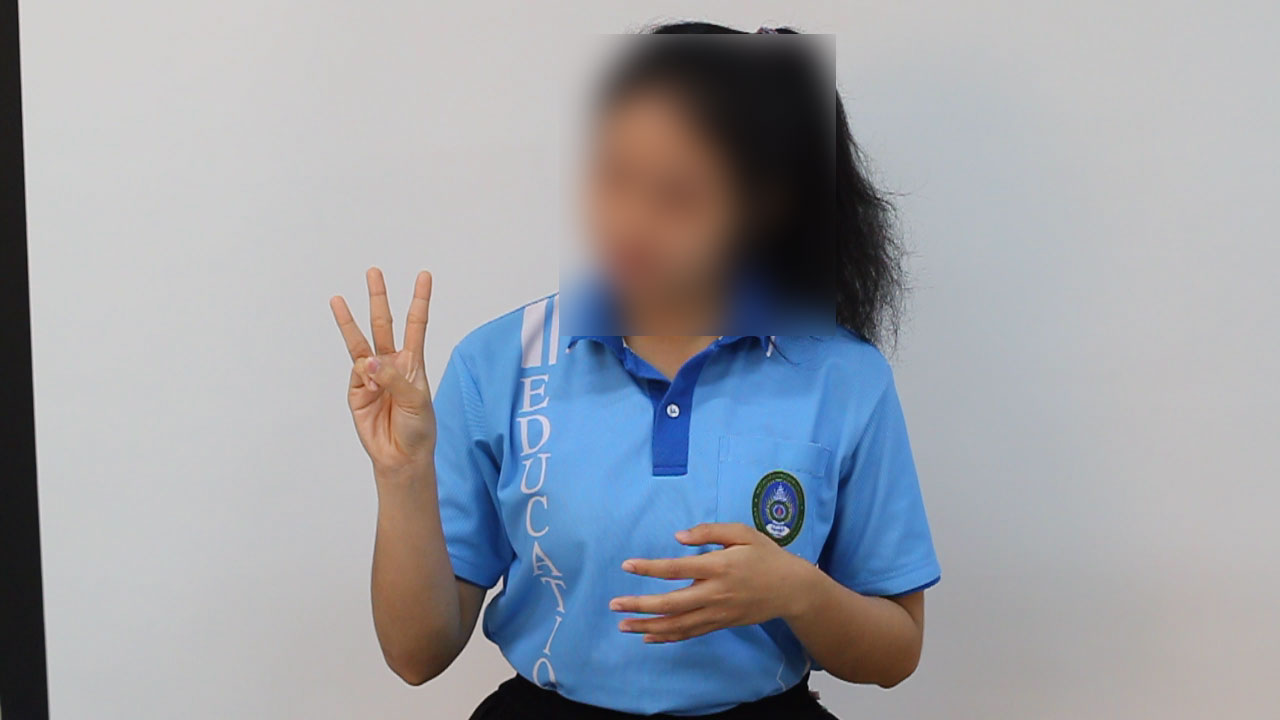wor: (323, 257, 449, 478)
